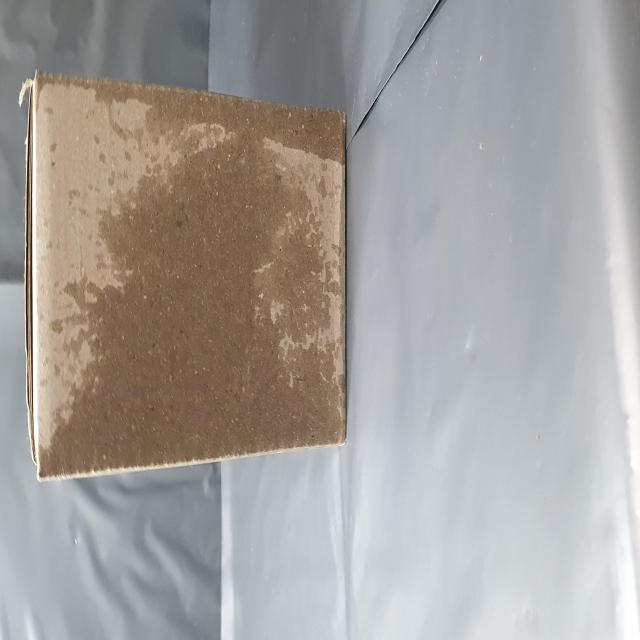wet: (88, 62, 312, 620)
